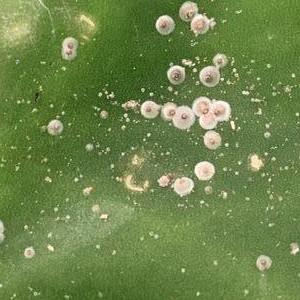Femea: (152, 17, 171, 33), (200, 70, 218, 86), (182, 106, 196, 125), (180, 4, 195, 20), (174, 179, 191, 193), (197, 164, 212, 179), (168, 68, 183, 82), (141, 101, 154, 117), (210, 106, 223, 122), (205, 132, 218, 148), (192, 17, 205, 31), (202, 98, 215, 112), (62, 38, 77, 50), (201, 115, 214, 128), (169, 100, 181, 114), (255, 255, 267, 269), (46, 122, 62, 132), (23, 245, 35, 257), (213, 54, 223, 67)
Linfa: (250, 95, 263, 113), (118, 111, 130, 130), (248, 153, 261, 169), (240, 82, 254, 95), (264, 131, 271, 138)
Macho: (228, 121, 233, 131)
